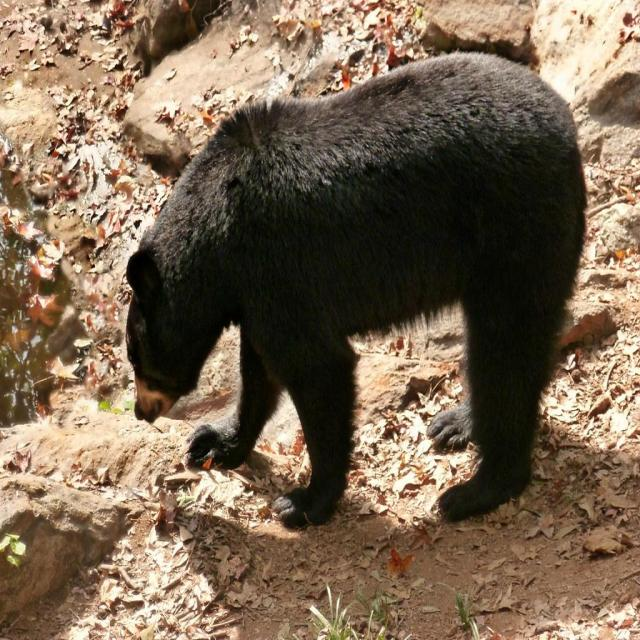Bear: (124, 52, 589, 528)
